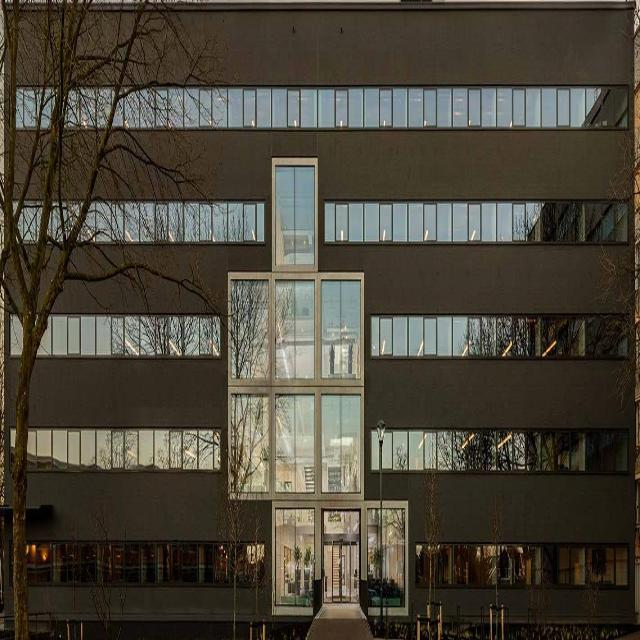door: (324, 535, 359, 608)
window: (230, 158, 409, 619), (16, 84, 629, 123), (325, 195, 628, 245), (372, 430, 628, 477), (370, 315, 628, 360), (25, 541, 265, 588), (416, 542, 629, 586), (10, 204, 262, 241), (13, 432, 221, 476), (12, 317, 220, 358)
